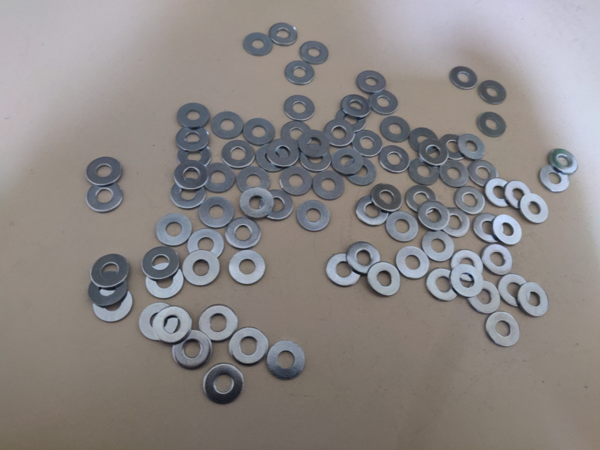circle: (203, 363, 246, 406), (172, 329, 213, 371), (139, 303, 179, 344), (197, 304, 239, 343), (230, 327, 270, 367), (267, 341, 307, 381), (93, 286, 133, 323), (182, 250, 222, 287), (92, 253, 131, 290), (156, 306, 193, 345), (88, 271, 129, 306), (143, 246, 181, 282), (229, 250, 267, 286), (486, 311, 522, 349), (347, 241, 383, 278), (326, 252, 362, 289), (146, 263, 184, 298), (497, 272, 532, 310), (468, 279, 502, 317), (396, 246, 432, 281), (426, 267, 461, 303), (170, 177, 208, 210), (189, 228, 225, 262), (278, 165, 314, 199), (236, 164, 272, 198), (368, 262, 402, 298), (451, 248, 485, 284), (87, 181, 124, 214), (156, 213, 193, 246), (239, 187, 276, 220), (227, 217, 262, 251), (468, 157, 503, 191), (297, 200, 333, 233), (518, 282, 550, 319), (422, 229, 456, 263), (451, 265, 485, 299), (203, 160, 236, 195), (256, 141, 291, 174), (174, 160, 210, 192), (87, 157, 124, 188), (519, 192, 552, 226), (200, 197, 235, 229), (176, 141, 213, 171), (438, 157, 471, 190), (222, 138, 256, 170), (323, 118, 357, 150), (355, 197, 389, 229), (409, 155, 443, 187), (482, 243, 514, 277), (212, 109, 245, 141), (483, 177, 516, 209), (387, 211, 420, 243), (454, 184, 487, 216), (472, 212, 505, 244), (261, 190, 295, 221), (441, 206, 472, 240), (313, 170, 346, 201), (331, 146, 364, 177), (493, 214, 524, 247), (283, 93, 317, 123), (242, 118, 277, 147), (344, 157, 377, 187), (539, 164, 572, 194), (350, 129, 384, 158), (175, 125, 210, 153), (406, 185, 438, 215), (177, 102, 211, 130), (372, 183, 402, 214), (299, 130, 331, 159), (368, 88, 400, 117), (438, 134, 470, 163), (476, 110, 509, 138), (407, 128, 440, 156), (335, 106, 369, 133), (505, 180, 534, 211), (268, 139, 300, 167), (379, 146, 411, 174), (284, 59, 317, 86), (281, 121, 312, 149), (548, 148, 580, 175), (419, 139, 448, 168), (458, 133, 487, 162), (243, 32, 275, 58), (341, 93, 372, 119), (356, 70, 388, 95), (478, 79, 507, 105), (269, 22, 299, 47), (300, 41, 330, 66), (450, 65, 480, 90), (381, 117, 411, 142)
